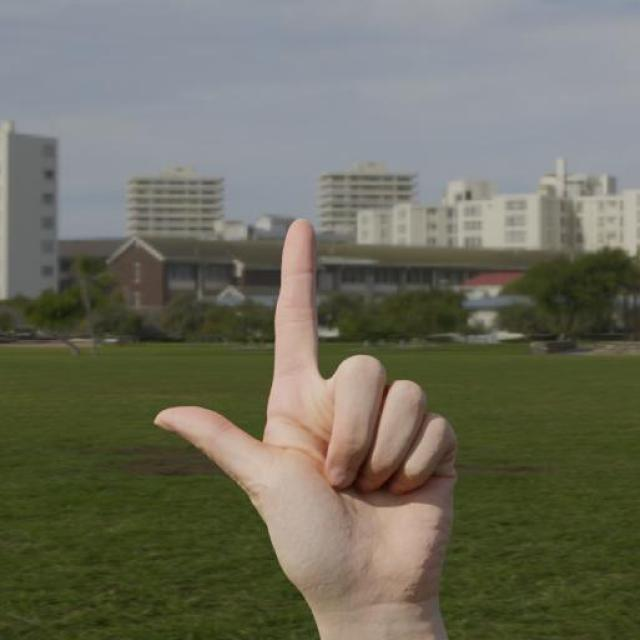L: (148, 213, 460, 599)
